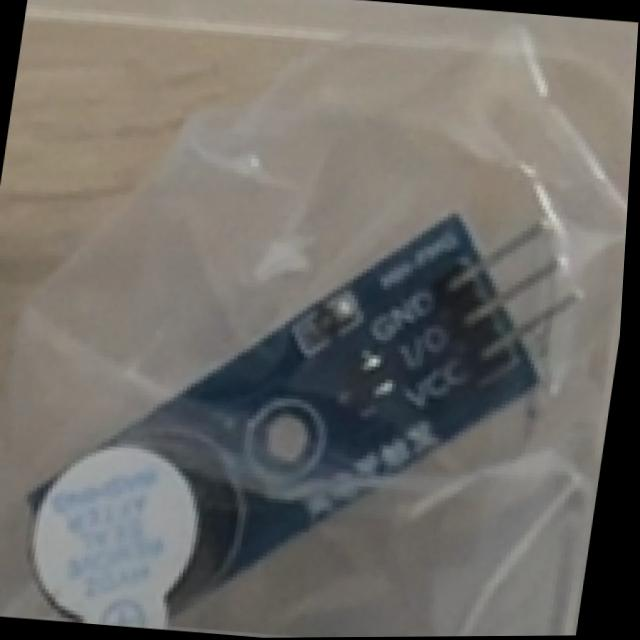Buzzer: (0, 174, 591, 640)
